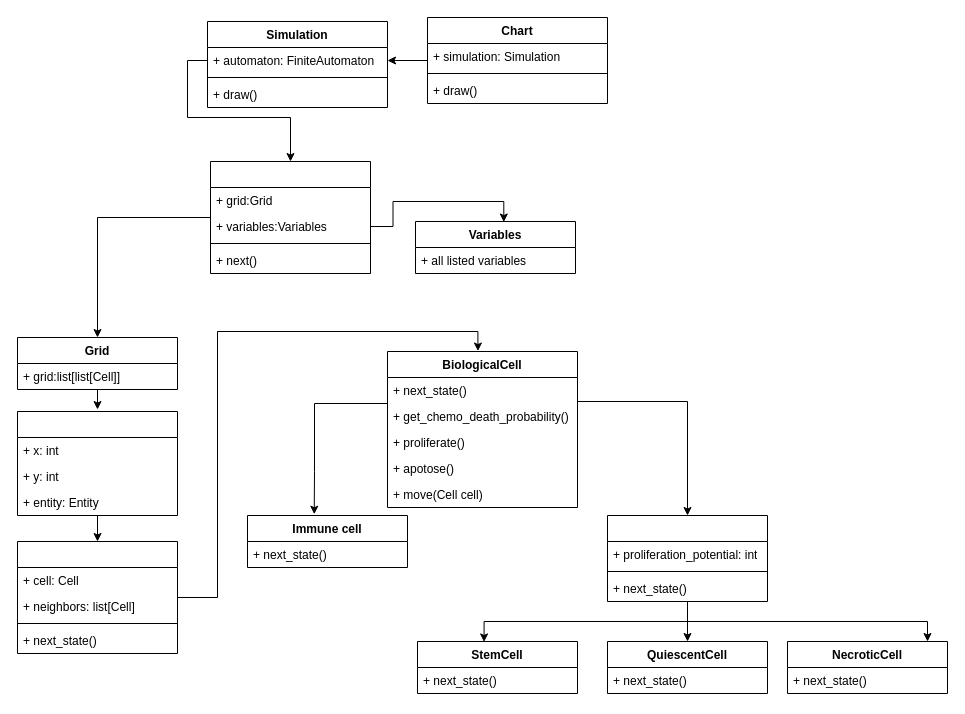
This 965x714 diagram has some shape labels left out. The box of each missing label's shape, as (x1, y1, x2, y2) in pixels:
CancerCell: (606, 514, 768, 602)
Cell: (16, 410, 178, 516)
Entity: (16, 540, 178, 654)
FiniteAutomaton: (210, 160, 370, 274)
